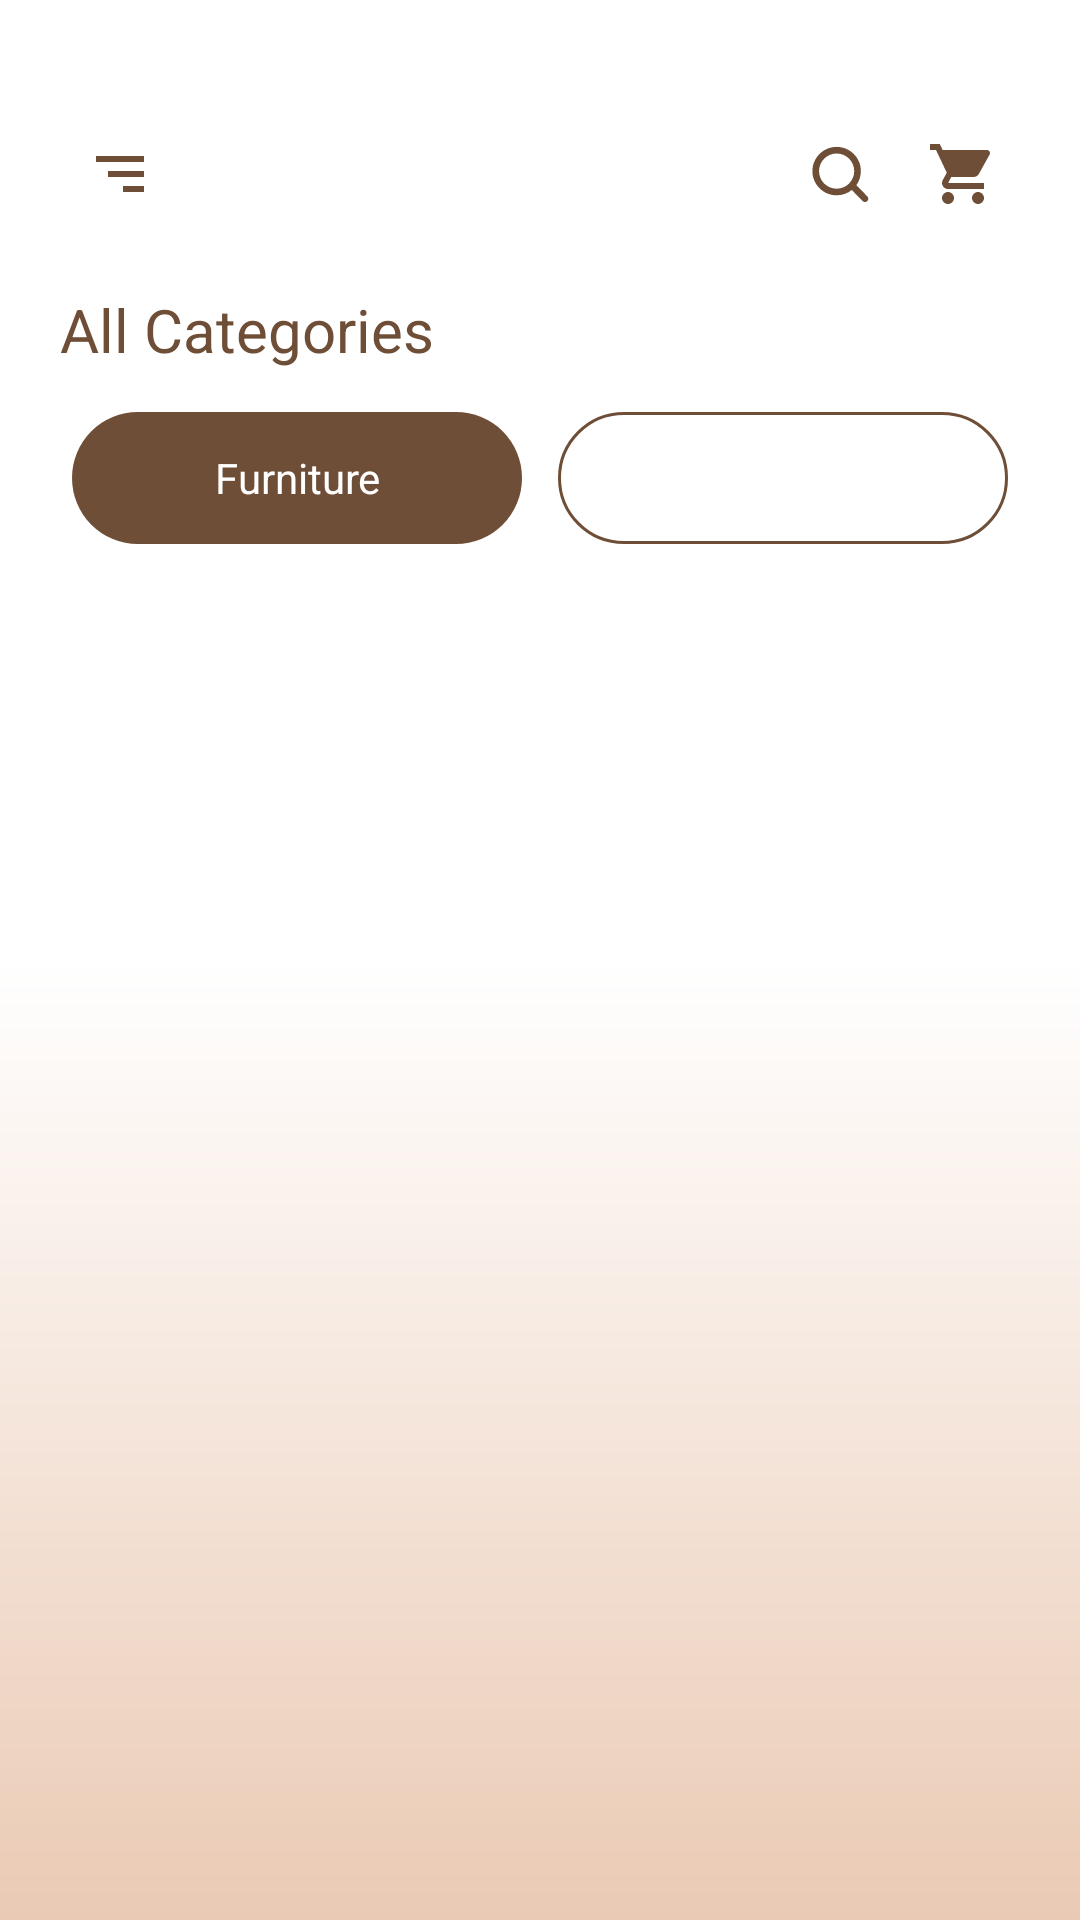

Icon bounding boxes for this 1080*1920 phone screenshot, format (x1, y1, x2, y2):
Cart Icon: (930, 144, 990, 204)
Menu Icon: (96, 156, 144, 192)
Search Icon: (812, 146, 869, 202)
